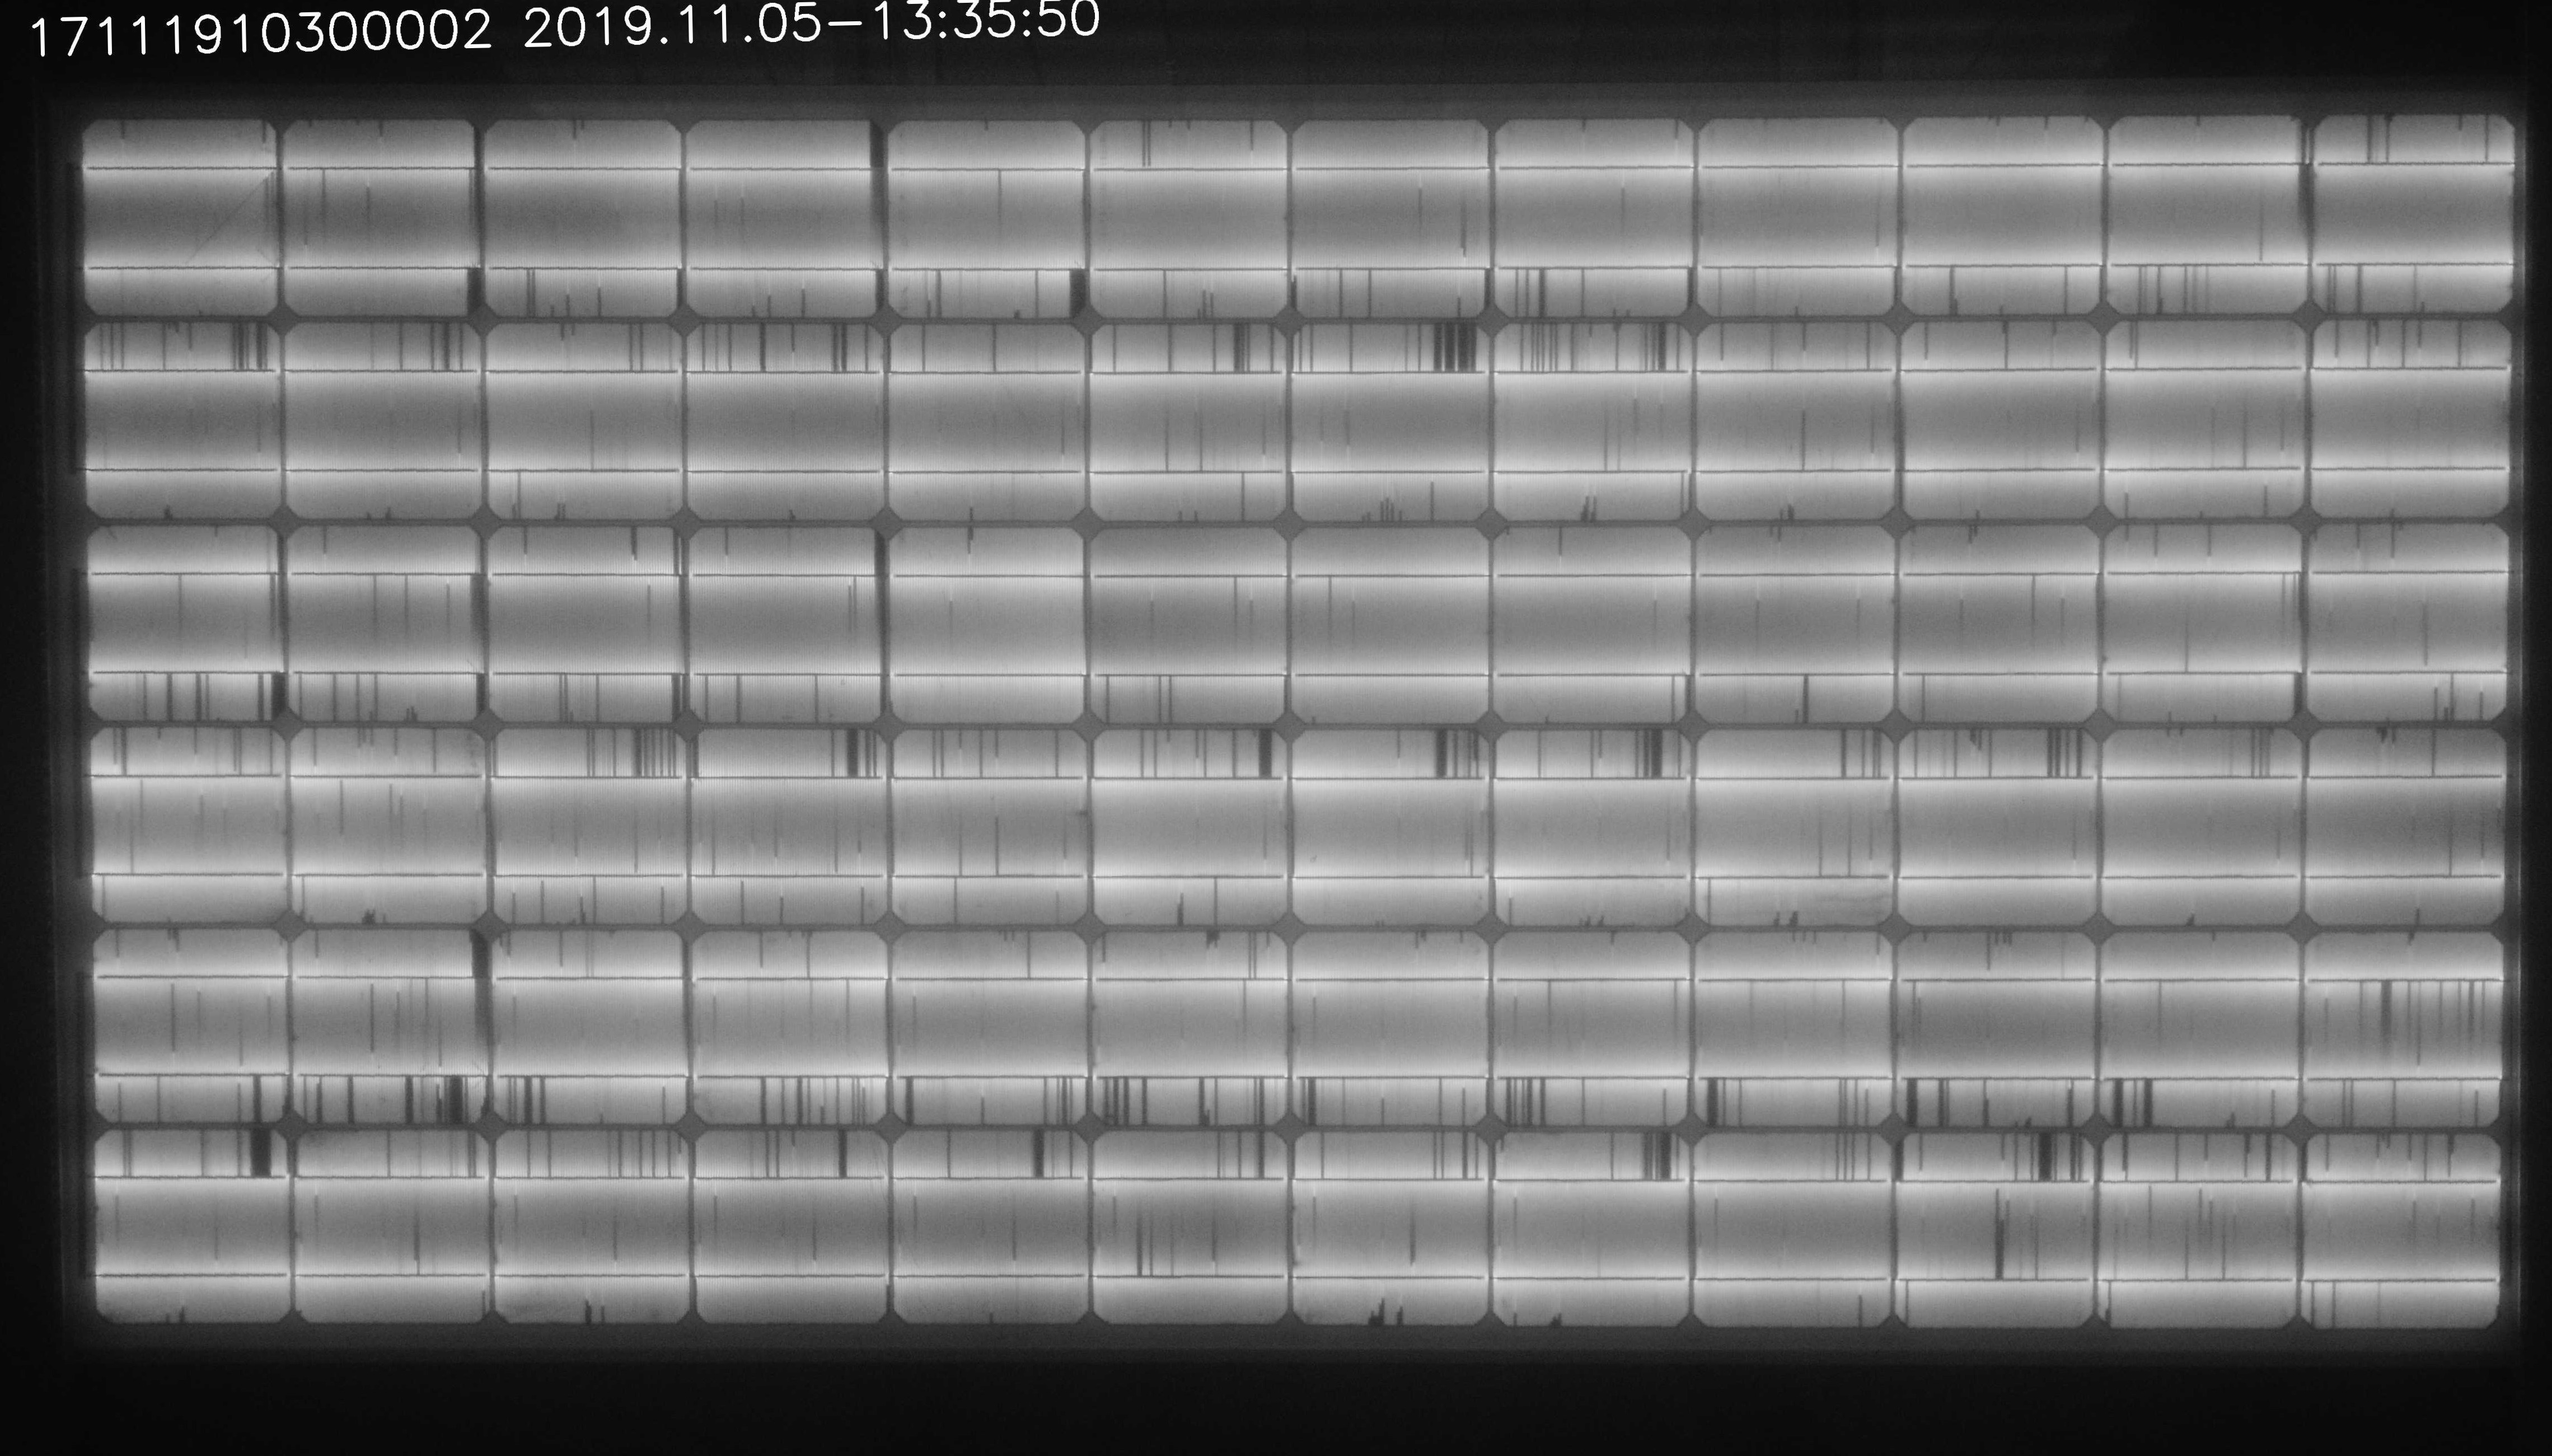5,11: (2293, 96, 2527, 331), (61, 107, 293, 333), (75, 1114, 307, 1339)
